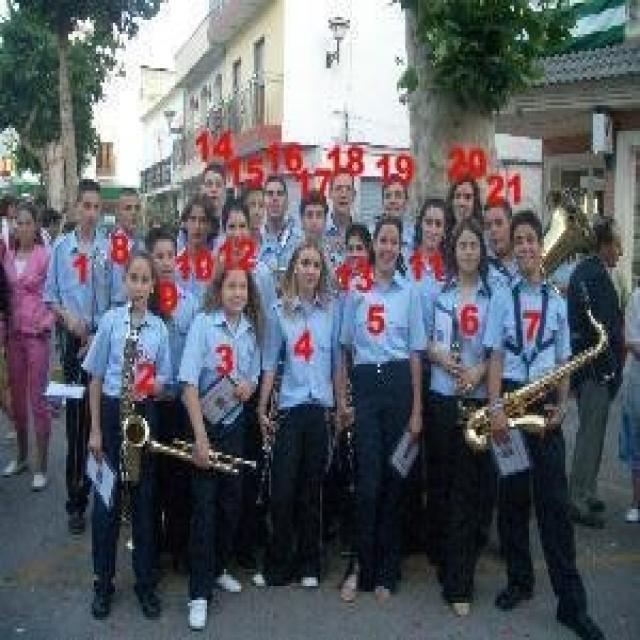saxophone: (457, 285, 610, 462), (120, 300, 153, 484)
